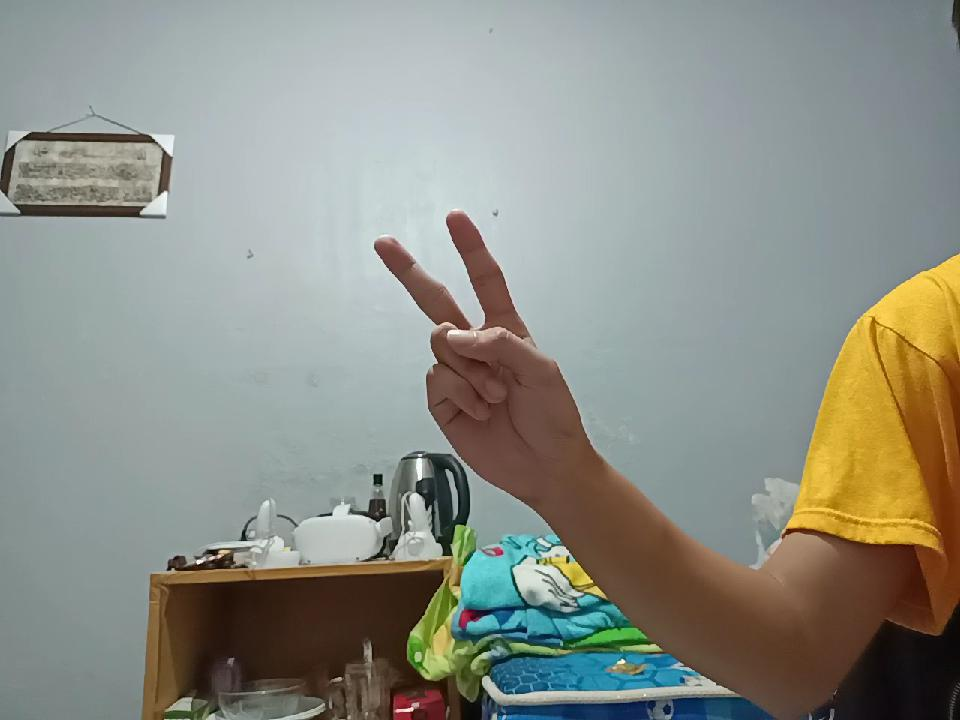scissors: (376, 176, 584, 500)
